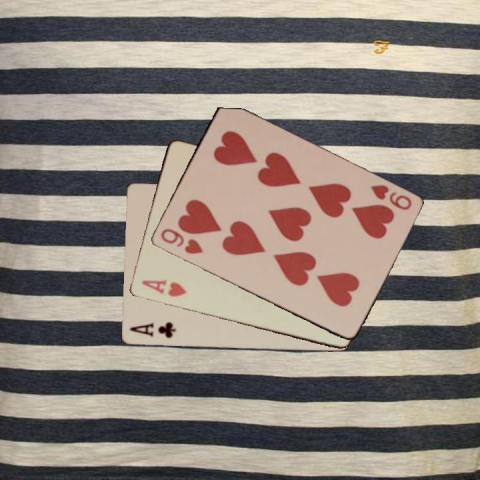9h: (157, 225, 204, 256), (367, 181, 413, 212)
Ac: (126, 319, 176, 340)
Ah: (138, 276, 188, 299)
